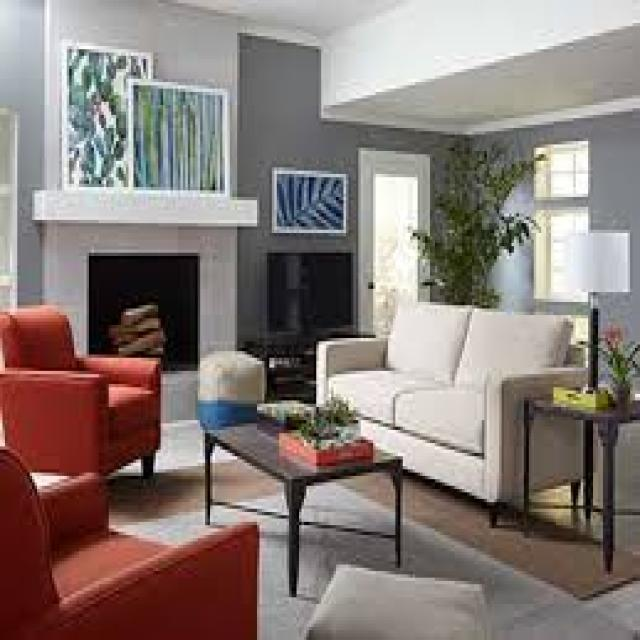Chair: (2, 452, 260, 640), (0, 296, 163, 493)
Lamp: (562, 215, 636, 390)
Sofa: (300, 270, 596, 506)
Table: (204, 386, 412, 597)
